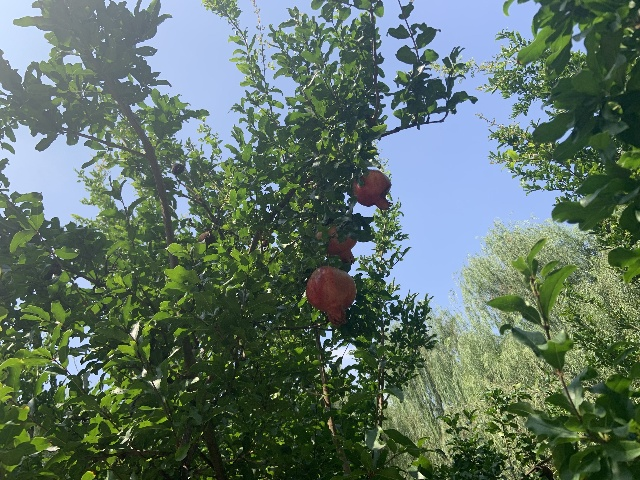ripe: (304, 265, 356, 326), (316, 225, 356, 265), (352, 169, 391, 210)
